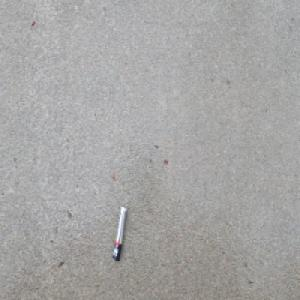Battery: (112, 204, 127, 263)
